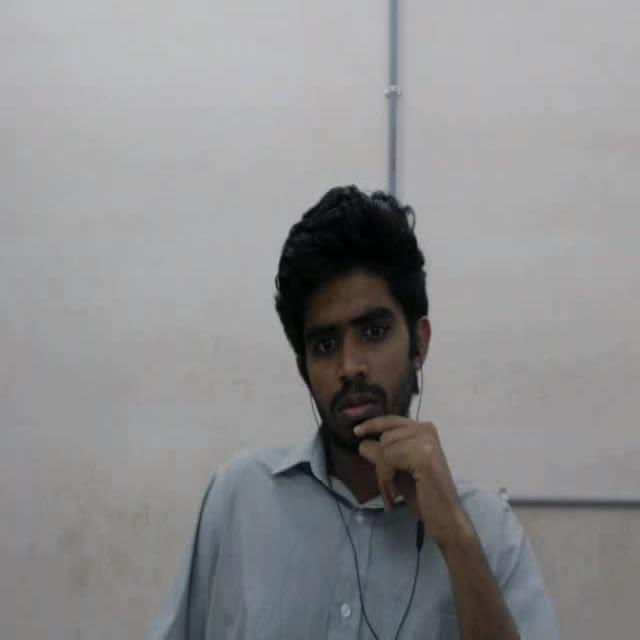Bored: (258, 166, 474, 498)
